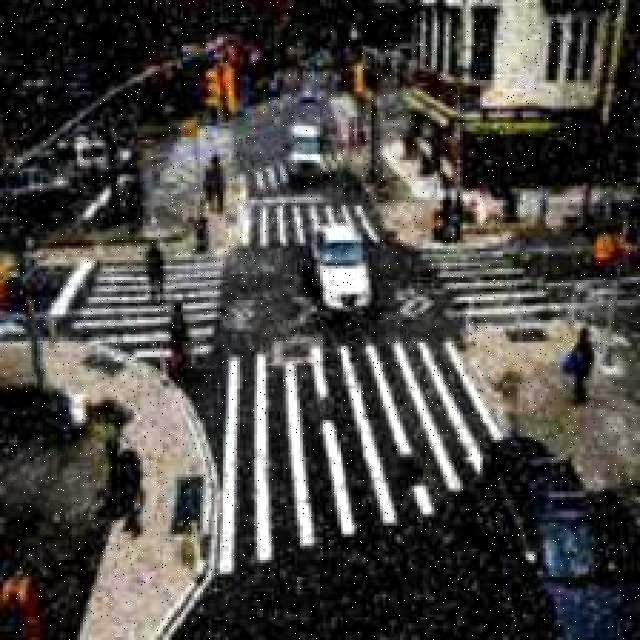crosswalk: (209, 341, 535, 566), (55, 231, 232, 365), (434, 230, 540, 332), (236, 191, 402, 246)
